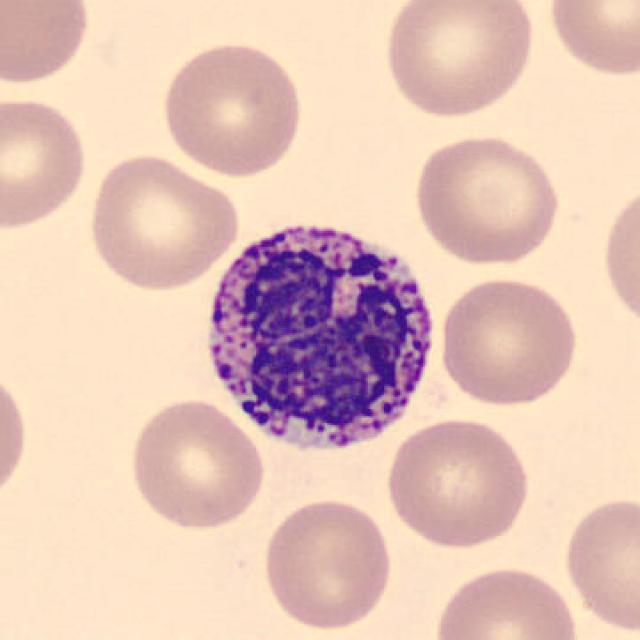basophil: (182, 220, 461, 447)
rbc: (407, 133, 568, 267), (158, 37, 306, 176), (384, 0, 549, 122), (394, 426, 530, 546), (105, 156, 241, 272), (274, 503, 394, 630), (455, 281, 574, 402), (146, 399, 260, 522), (424, 559, 583, 640), (2, 105, 84, 229), (569, 490, 640, 622), (0, 0, 91, 74), (558, 0, 640, 81), (2, 376, 32, 494), (612, 199, 640, 304)
